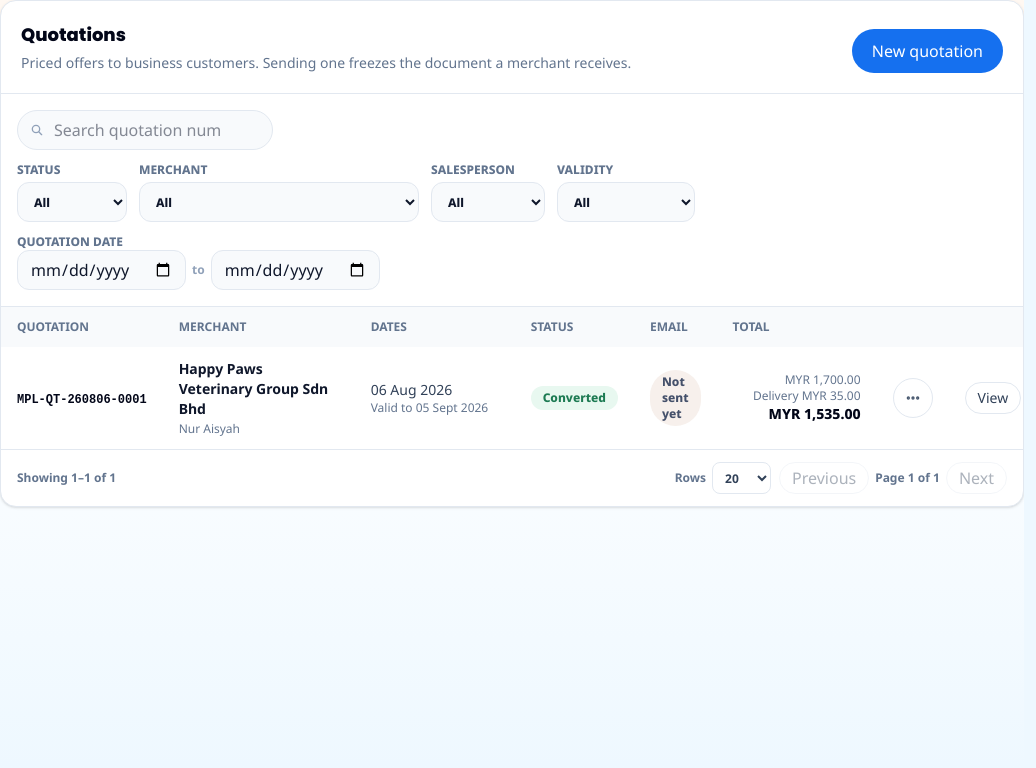
Quotation lifecycle › offers no second conversion once converted, and links to the order
What coordinates should you click on to do the following:
click the button named "Actions for MPL-QT-260806-0001"
I would click on:
 (913, 398)
Its box is [893,378,933,418].
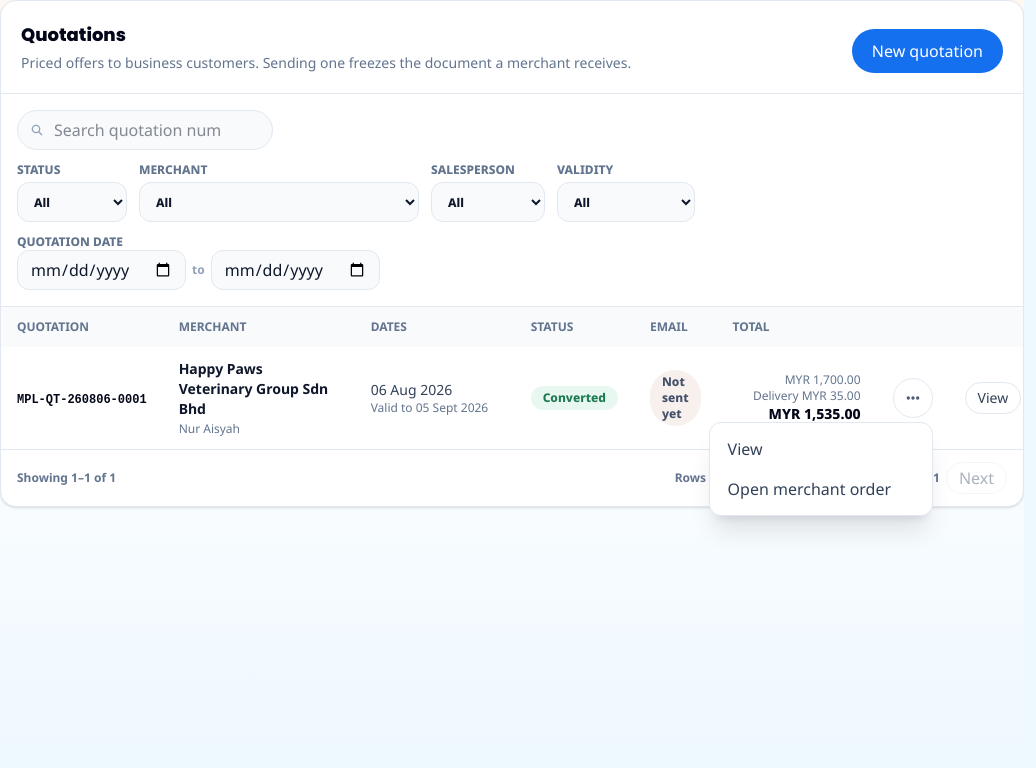
Check: the menu item "Open merchant order" is shown, box [716,469,926,509]
